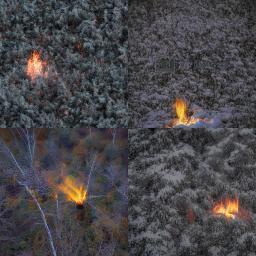Small fire: (167, 99, 221, 129), (57, 176, 91, 206), (26, 52, 47, 83), (212, 195, 240, 218)
